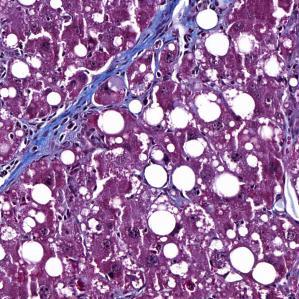fibrosis: (24, 88, 101, 159), (127, 7, 196, 57)
